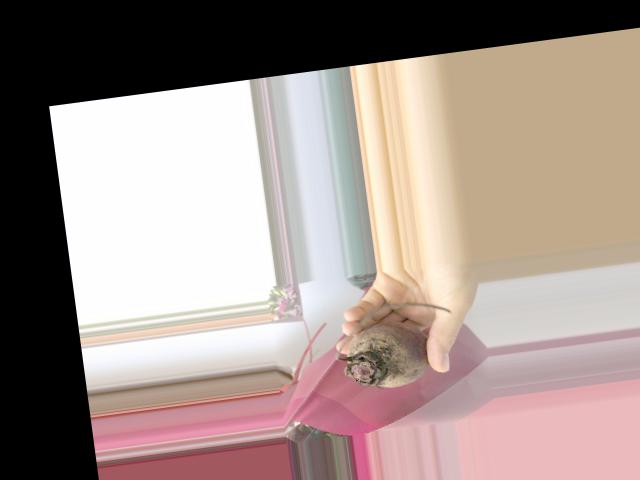beet: (328, 297, 459, 394)
